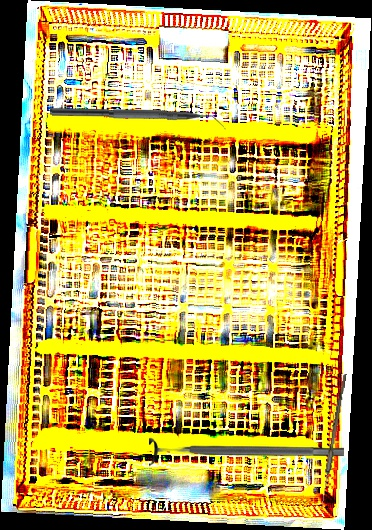Chopper: (49, 107, 227, 131)
Fixation Ring: (149, 436, 344, 468)
Surgical Spoon: (319, 373, 347, 509)
